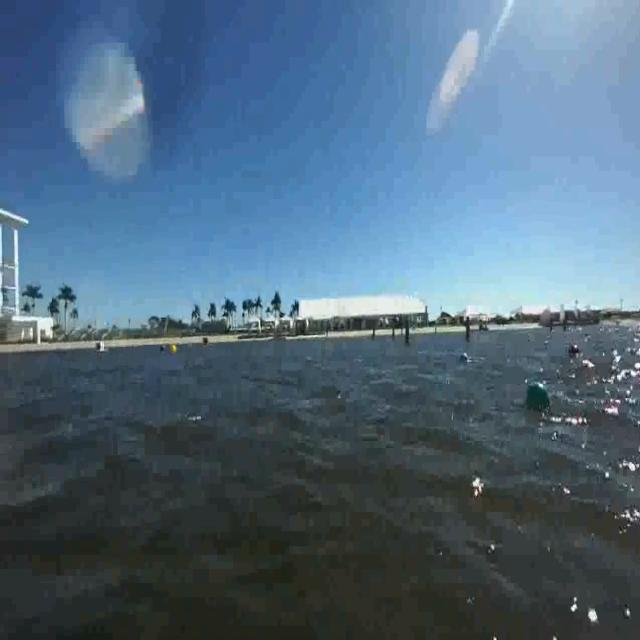green-buoy: (524, 378, 552, 412)
yellow-buoy: (170, 343, 178, 356)
